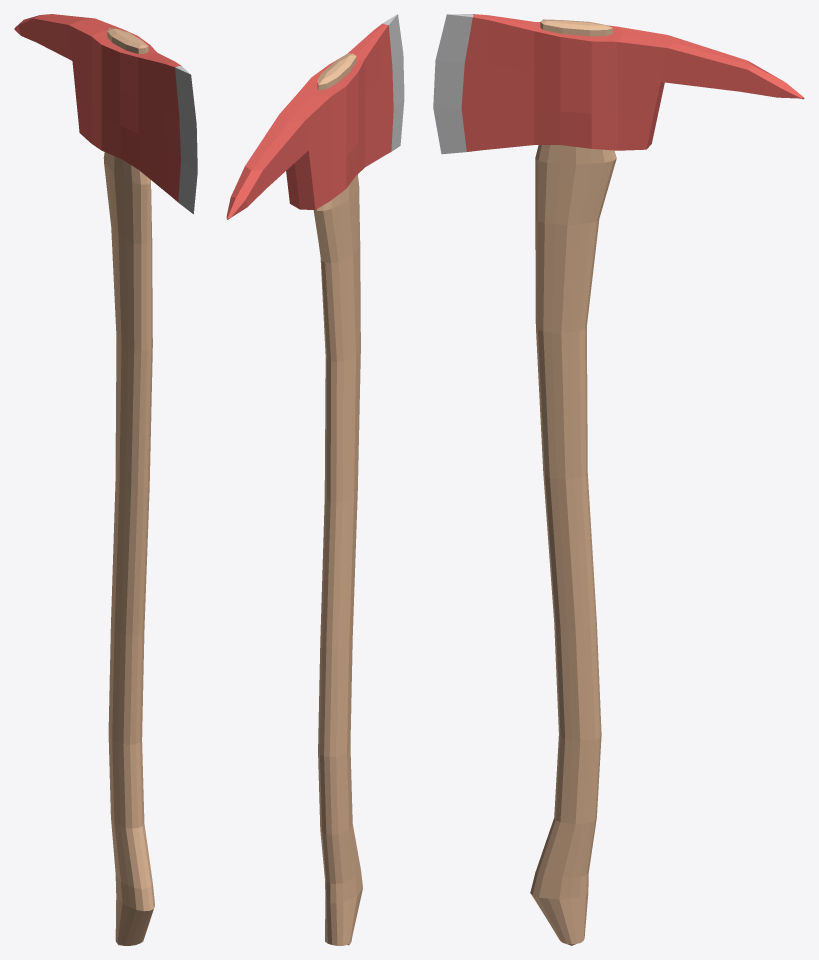
The model's file is FireAxe.fbx.
3 views of the same model, side by side, from view 1: azimuth 30°, elevation 25°; view 2: azimuth 150°, elevation 25°; view 3: azimuth 270°, elevation 25° (orthographic). The views are drawn at different scales.
Parts seen in each view (by area): view 1: Fire Axe; view 2: Fire Axe; view 3: Fire Axe.
Part boxes in pixels (x1=…): Fire Axe: x1=14, y1=14, x2=197, y2=945; Fire Axe: x1=226, y1=14, x2=404, y2=945; Fire Axe: x1=433, y1=14, x2=804, y2=945.
Size of the model in its own units: 26.27 by 631 by 229.
